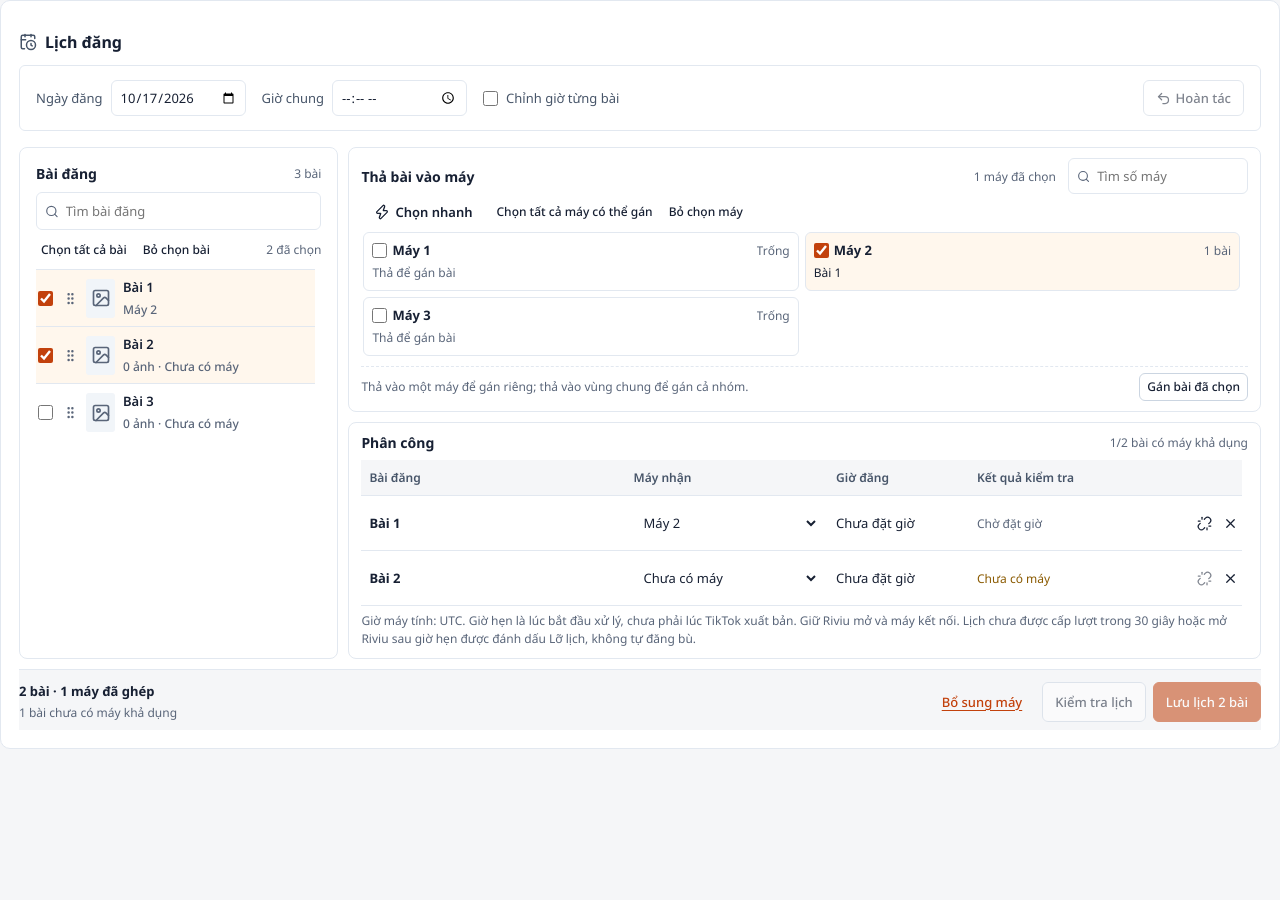
Test: schedule assignment workspace › quick selection keeps manual mappings and fills free ready machines for the current rows
Click the checkbox named "Chọn máy hẹn giờ Máy 3".
click(380, 315)  # box [372,308,387,322]
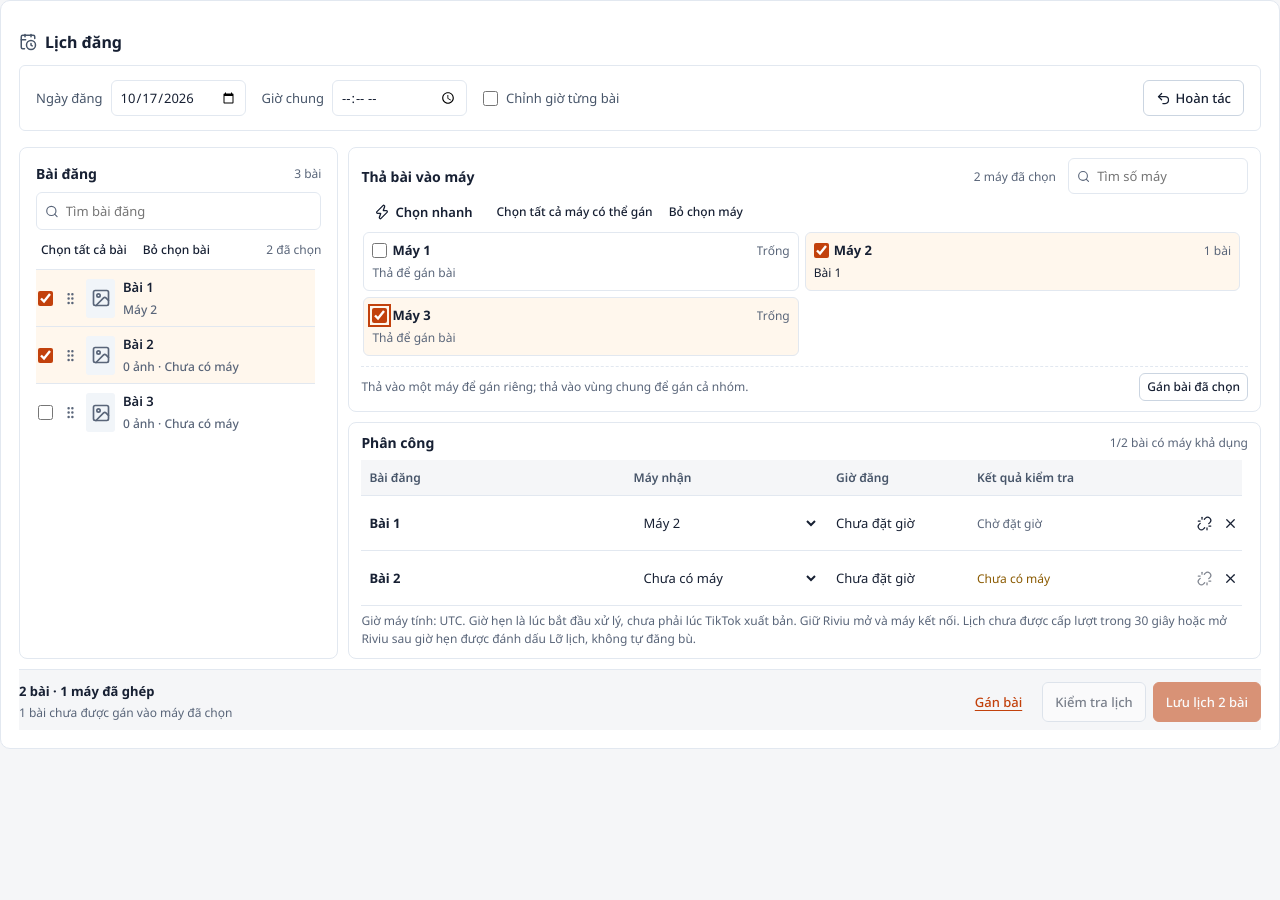
Click the button "Chọn nhanh".
click(423, 212)  # box [361,194,486,230]
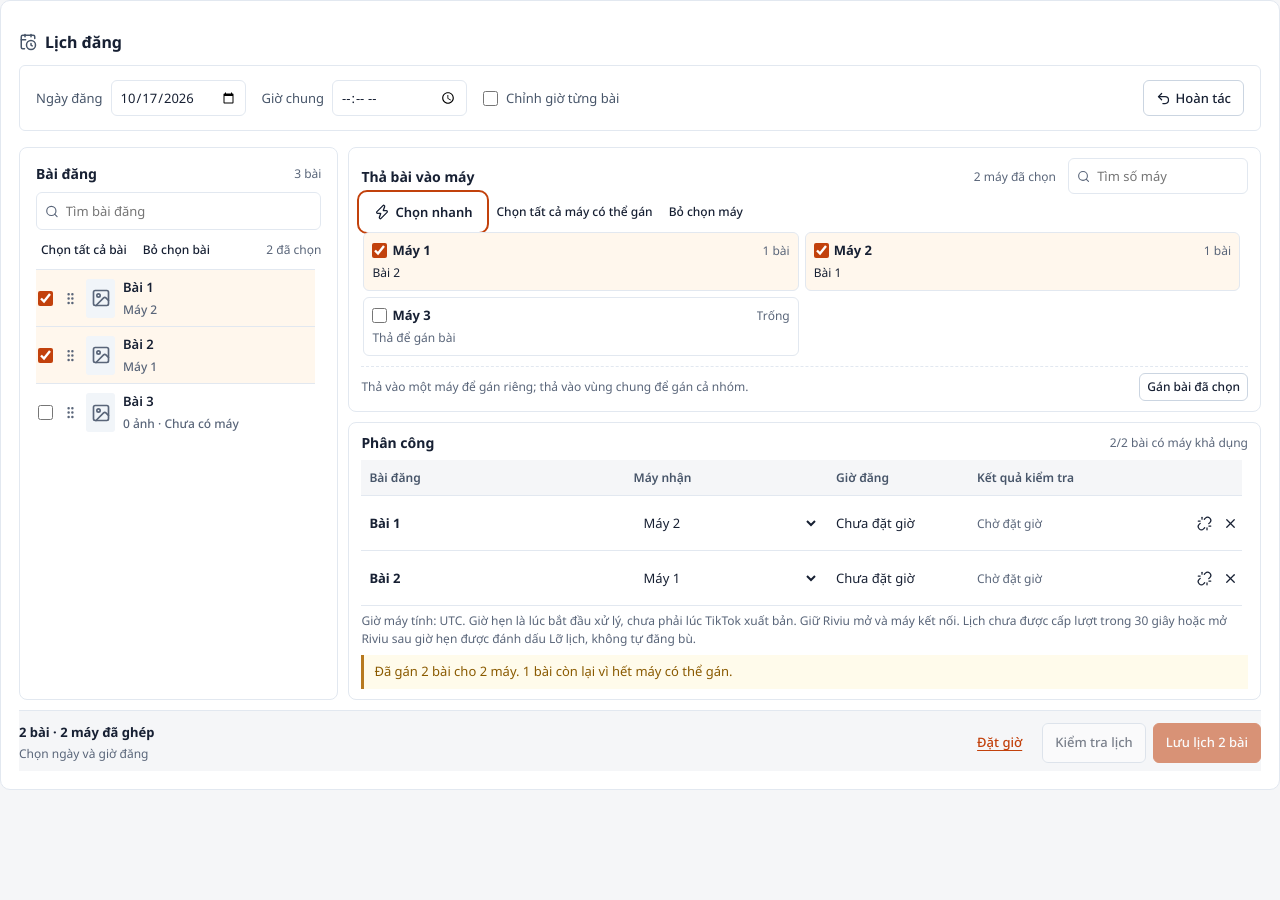
Expected: the dropdown named "Máy nhận Bài 1" shows "Máy 2", [634,505,820,541]
Now the dropdown named "Máy nhận Bài 2" shows "Máy 1", box [634,560,820,596]
Now the checkbox named "Chọn máy hẹn giờ Máy 1" is checked, box [372,242,387,258]
Click the button "Chọn nhanh".
click(423, 212)  # box [361,194,486,230]
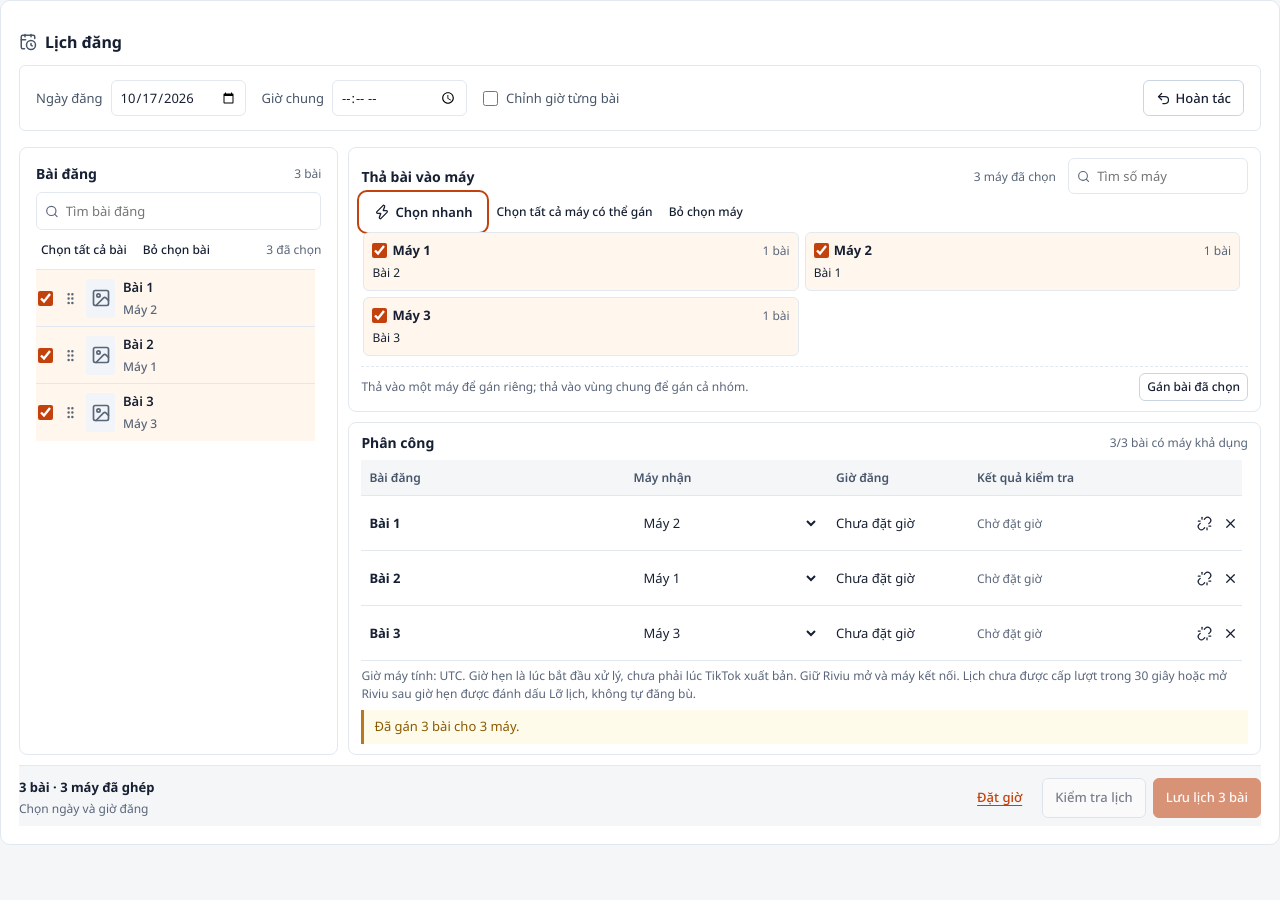
Now the dropdown named "Máy nhận Bài 3" shows "Máy 3", box [634,615,820,651]
